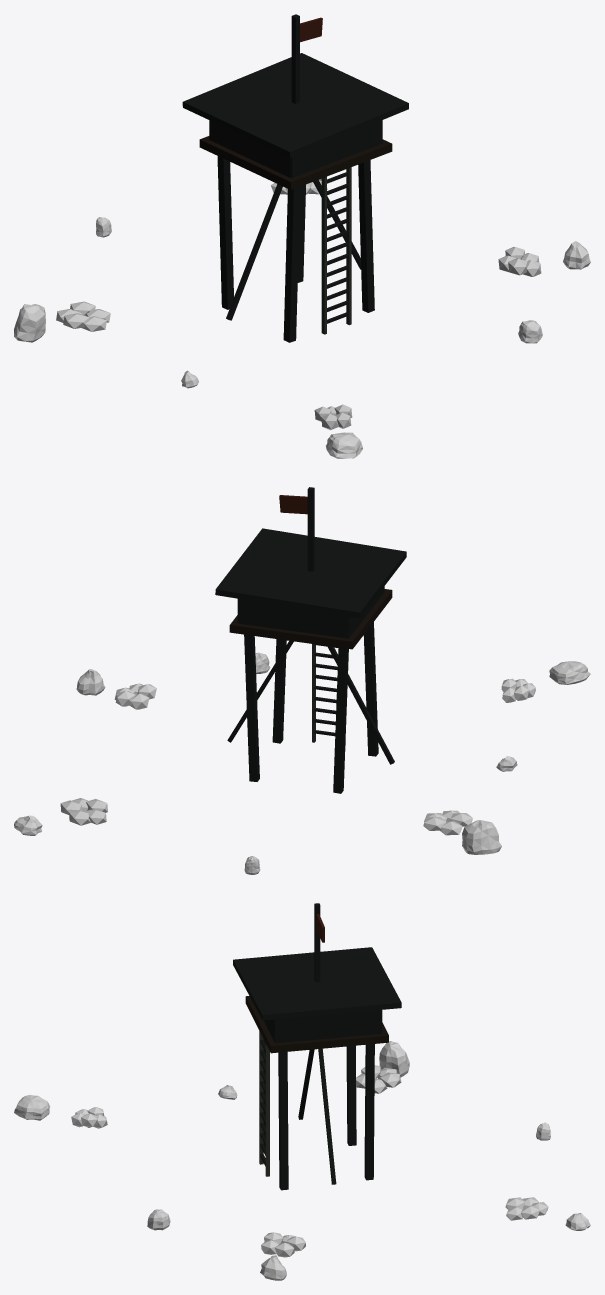
Rendered from landmark_watchtower.obj.
3 views of the same model, one above another, from view 1: azimuth 30°, elevation 25°; view 2: azimuth 150°, elevation 25°; view 3: azimuth 270°, elevation 25° (orthographic). The views are drawn at different scales.
Parts seen in each view (by area): view 1: metalStructure_000, MilitaryStructure, woodStructure_000, ironStructure_007, ironStructure_001, ironStructure_003, ironStructure_000, ironStructure_004, deadBrushInstances_002, rockInstances_002, deadBrushInstances_000, rockInstances_001 (+4 smaller); view 2: metalStructure_000, ironStructure_005, MilitaryStructure, woodStructure_000, ironStructure_002, ironStructure_000, ironStructure_001, rockInstances_002, ironStructure_003, deadBrushInstances_003, deadBrushInstances_002, deadBrushInstances_000 (+5 smaller); view 3: metalStructure_000, ironStructure_006, MilitaryStructure, woodStructure_000, ironStructure_003, ironStructure_002, ironStructure_000, deadBrushInstances_000, deadBrushInstances_003, rockInstances_002, deadBrushInstances_002, rockInstances_001 (+2 smaller).
Boxes of the visible parts, x1,y1,x2,y2 form: metalStructure_000: [182, 53, 408, 157]; MilitaryStructure: [226, 167, 361, 334]; woodStructure_000: [199, 136, 392, 189]; ironStructure_007: [291, 120, 382, 177]; ironStructure_001: [283, 187, 300, 342]; ironStructure_003: [358, 160, 374, 312]; ironStructure_000: [217, 156, 233, 309]; ironStructure_004: [209, 120, 291, 177]; deadBrushInstances_002: [56, 301, 110, 331]; rockInstances_002: [14, 304, 45, 342]; deadBrushInstances_000: [498, 247, 541, 276]; rockInstances_001: [326, 432, 362, 458]; metalStructure_000: [215, 528, 406, 618]; ironStructure_005: [238, 599, 347, 638]; MilitaryStructure: [227, 641, 394, 764]; woodStructure_000: [229, 589, 392, 649]; ironStructure_002: [244, 634, 259, 781]; ironStructure_000: [333, 647, 348, 793]; ironStructure_001: [363, 622, 378, 756]; rockInstances_002: [462, 820, 501, 854]; ironStructure_003: [272, 639, 286, 743]; deadBrushInstances_003: [60, 798, 107, 825]; deadBrushInstances_002: [423, 810, 472, 835]; deadBrushInstances_000: [114, 683, 156, 709]; metalStructure_000: [233, 947, 401, 1020]; ironStructure_006: [276, 1010, 381, 1043]; MilitaryStructure: [259, 1031, 336, 1184]; woodStructure_000: [245, 996, 388, 1053]; ironStructure_003: [278, 1052, 288, 1190]; ironStructure_002: [364, 1044, 374, 1180]; ironStructure_000: [346, 1045, 356, 1145]; deadBrushInstances_000: [261, 1232, 305, 1257]; deadBrushInstances_003: [505, 1197, 548, 1220]; rockInstances_002: [379, 1041, 409, 1077]; deadBrushInstances_002: [356, 1065, 401, 1093]; rockInstances_001: [14, 1094, 50, 1120].
Size of the model in its own units: 15.96 by 8.94 by 17.65.
